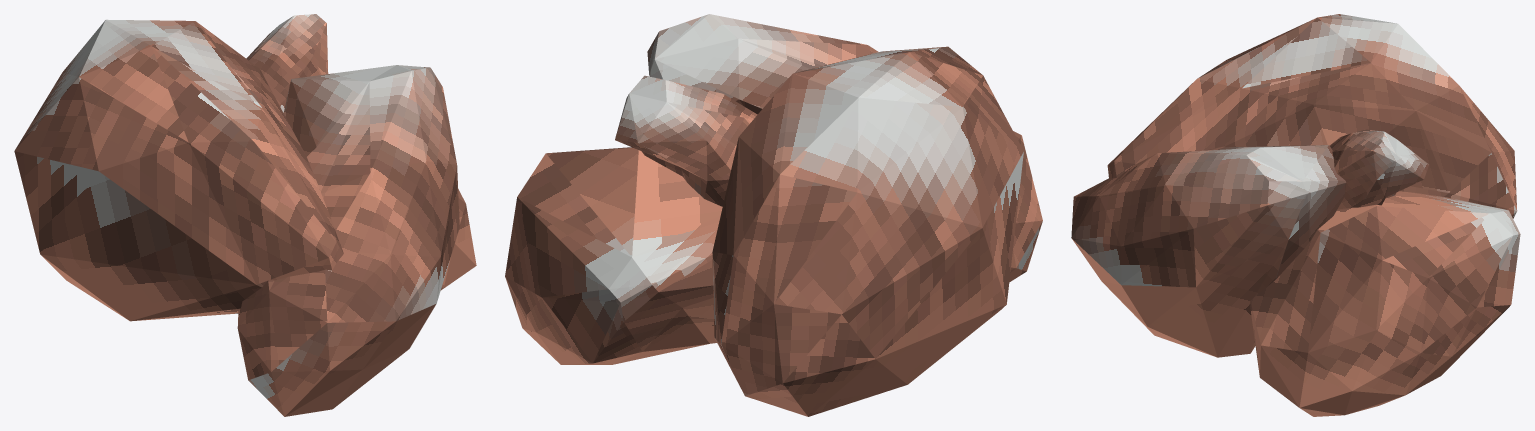
Rendered from Iron.fbx.
The picture shows the model from 3 angles, left to right: view 1: azimuth 30°, elevation 25°; view 2: azimuth 150°, elevation 25°; view 3: azimuth 270°, elevation 25°; orthographic projection. The views are drawn at different scales.
Visible parts, largest first — view 1: Iron; view 2: Iron; view 3: Iron.
Boxes of the visible parts, bbox=[...] form: Iron: bbox=[14, 14, 476, 416]; Iron: bbox=[505, 14, 1042, 416]; Iron: bbox=[1071, 14, 1520, 416].
Size of the model in its own units: 4.1 by 4.25 by 2.92.
